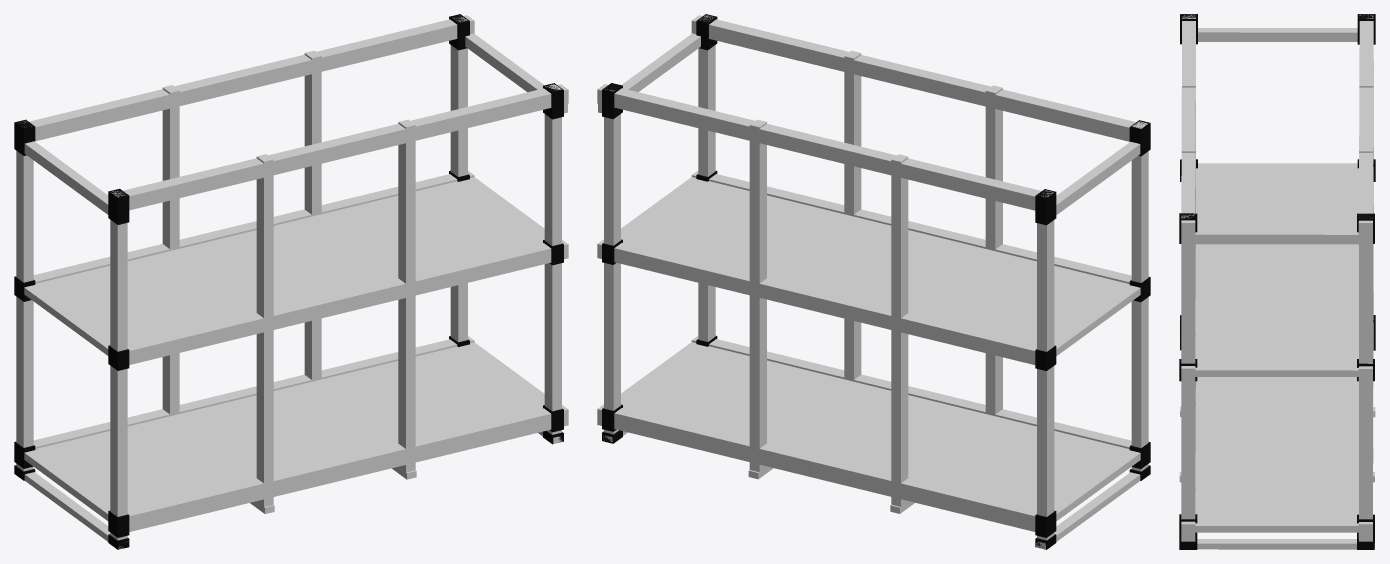
Rendered from zatla-double-room.glb.
The picture shows the model from 3 angles, left to right: view 1: azimuth 30°, elevation 25°; view 2: azimuth 150°, elevation 25°; view 3: azimuth 270°, elevation 25°; orthographic projection. The views are drawn at different scales.
Visible parts, largest first — view 1: model; view 2: model; view 3: model.
Boxes of the visible parts, x1=… form: model: x1=14, y1=14, x2=568, y2=549; model: x1=597, y1=14, x2=1150, y2=549; model: x1=1179, y1=14, x2=1375, y2=549.
Size of the model in its own units: 1.34 by 1 by 0.5371.
1 material, 1 textured.
